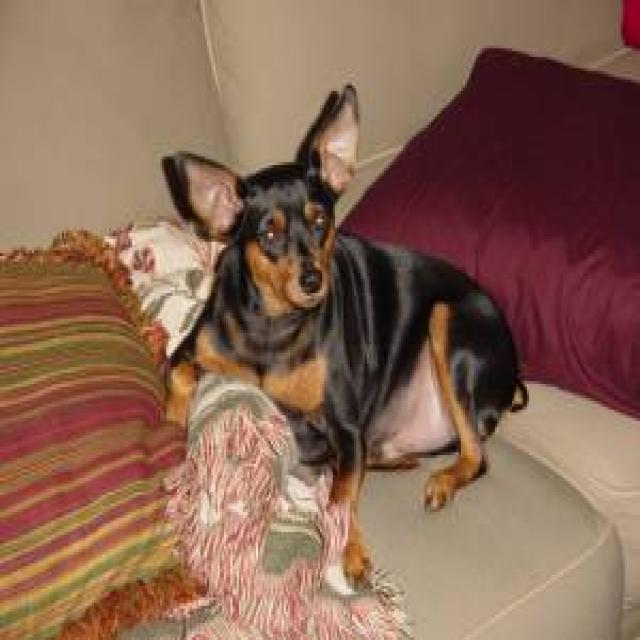dog-miniature_pinscher: (160, 74, 533, 518)
